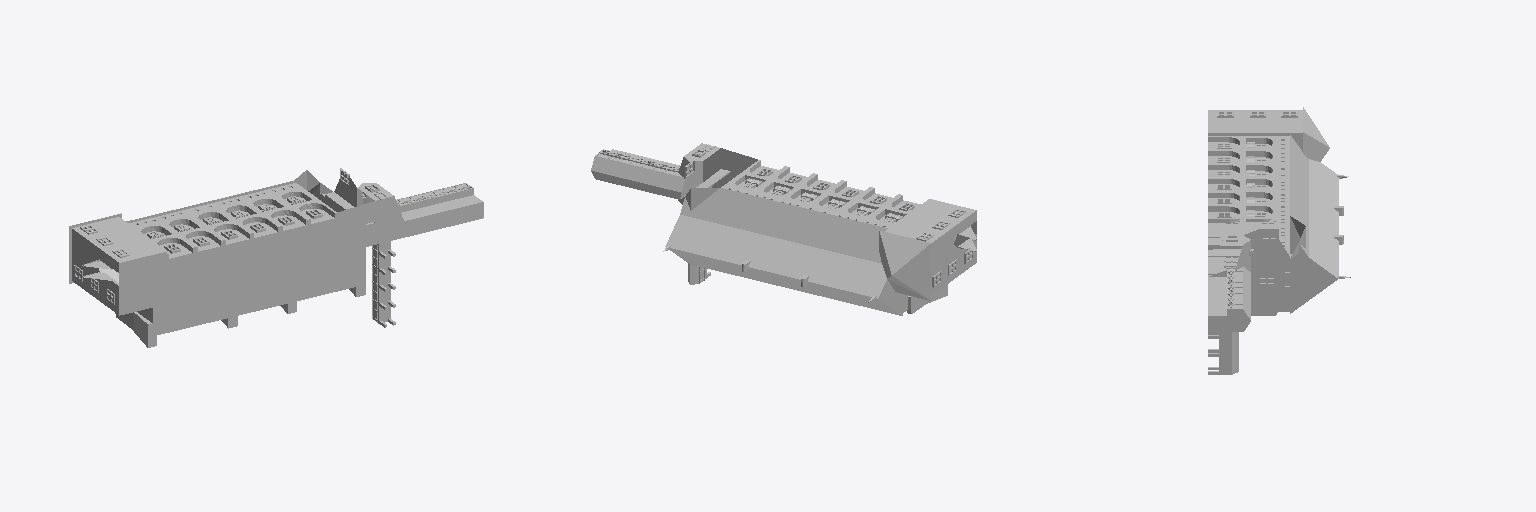
The model's file is zamek1trzecia.obj.
3 views of the same model, side by side, from view 1: azimuth 30°, elevation 25°; view 2: azimuth 150°, elevation 25°; view 3: azimuth 270°, elevation 25° (orthographic).
Parts seen in each view (by area): view 1: Zamek_zamek_bez_bramy; view 2: Zamek_zamek_bez_bramy; view 3: Zamek_zamek_bez_bramy.
Part boxes in pixels (bbox=[...]): Zamek_zamek_bez_bramy: bbox=[69, 168, 483, 347]; Zamek_zamek_bez_bramy: bbox=[591, 143, 976, 315]; Zamek_zamek_bez_bramy: bbox=[1208, 107, 1350, 374].
Size of the model in its own units: 0.0277 by 0.0094 by 0.009.